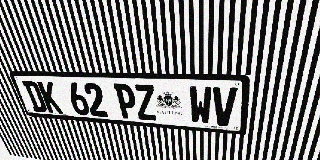2: (82, 83, 108, 117)
6: (65, 82, 91, 116)
D: (22, 81, 48, 112)
K: (37, 81, 63, 114)
P: (113, 84, 138, 119)
V: (212, 87, 237, 127)
W: (189, 86, 212, 125)
Z: (133, 84, 157, 121)
